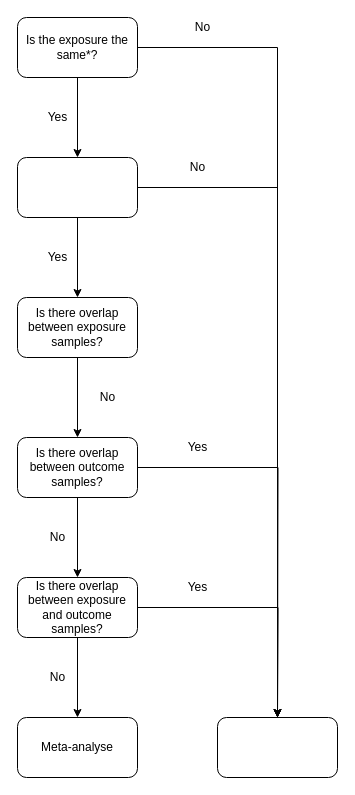
Some shapes in this 355 by 795 pixel diagram are drawn without their labels. The centre of each missing label's shape, as x and y in pixels:
Do not meta-analyse: the point at 277,747
Is the outcome the same*?: the point at 77,187
